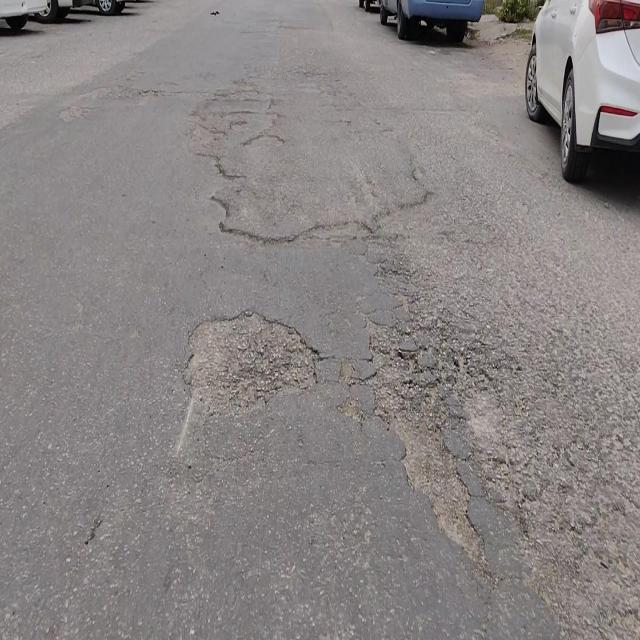Potholes: (382, 402, 489, 560), (183, 302, 313, 407)
